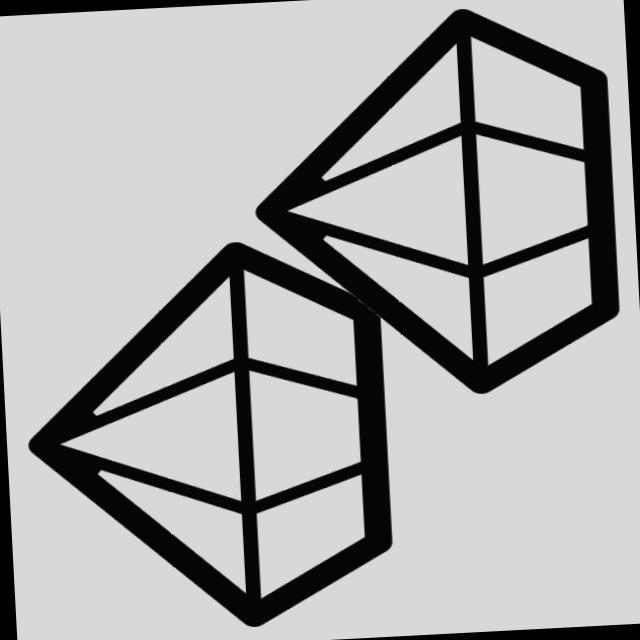diamond: (225, 1, 626, 414), (9, 226, 405, 640)
